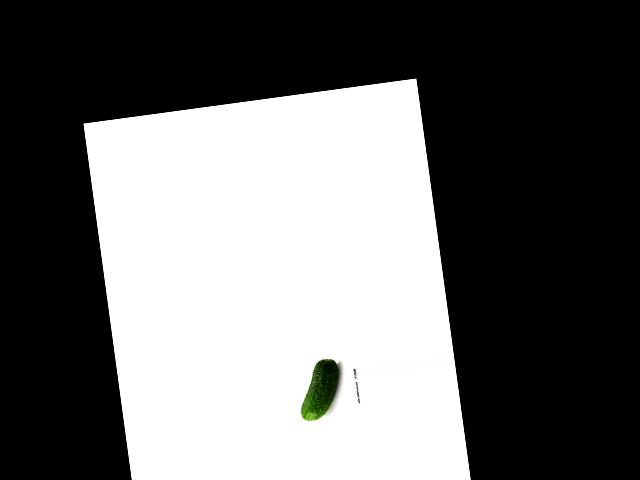cucumber: (294, 357, 345, 421)
